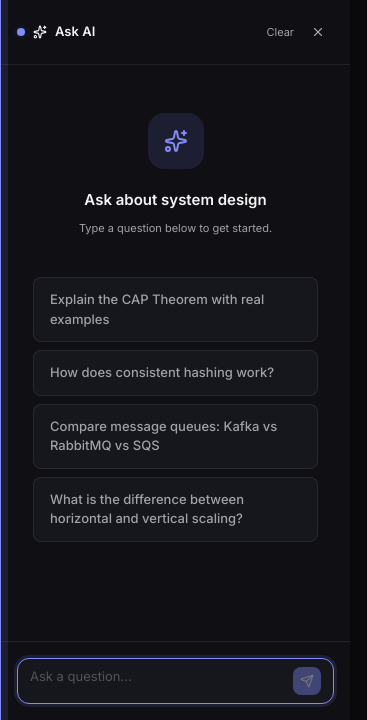
Test case: Chat Integration & Comprehensive App Workflows › AI Chat Panel - Tier 2 › 9. handles fetch failure errors and displays error alert
The width and height of the screenshot is (367, 720).
Type "Fail test" into the text box with placeholder "Ask a question..." at {"x": 158, "y": 681}, box [30,667,285,695]
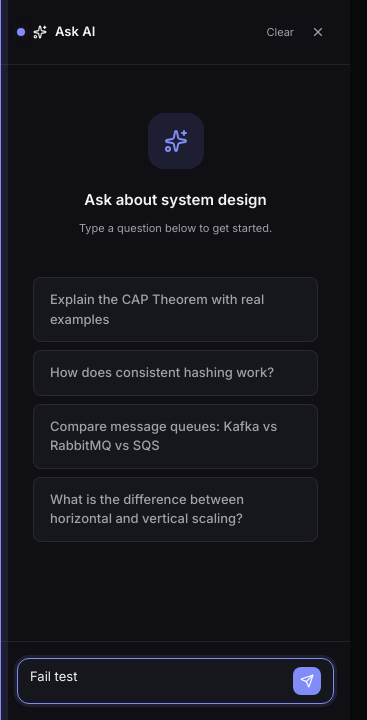
Click the button named "Send message" at {"x": 307, "y": 681}, box [293,667,321,695]
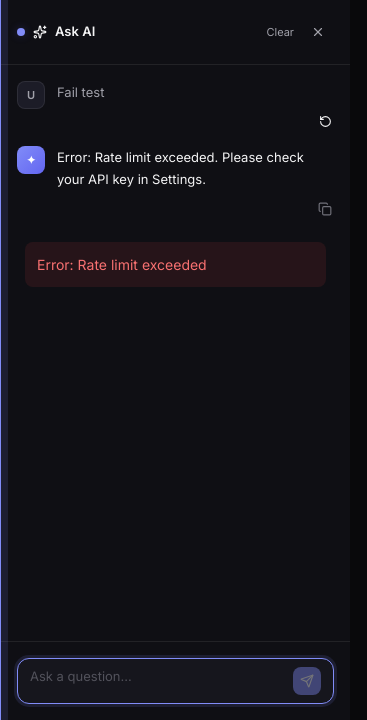
Check: the message reads "Error: Rate limit exceeded", box [25,242,326,287]
